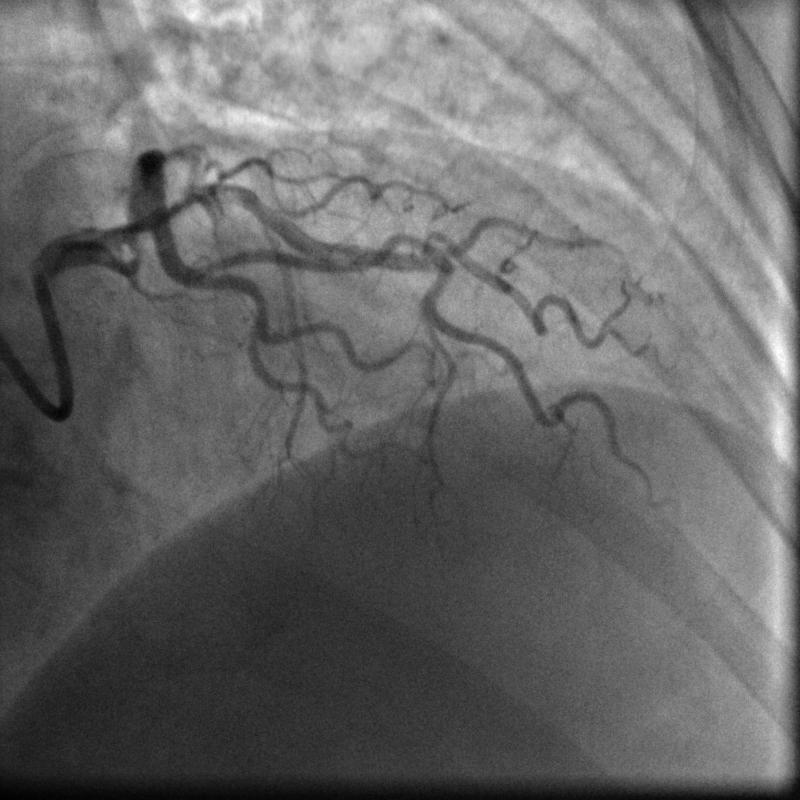Stenosis: (124, 230, 149, 275)
